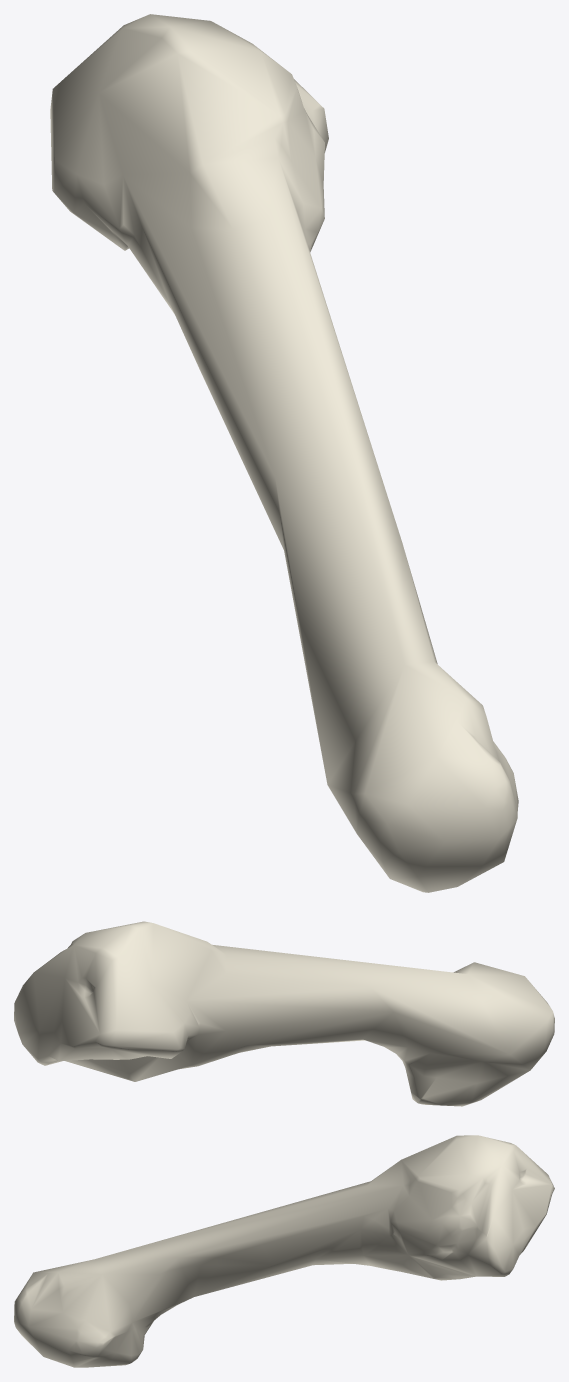
3 renders of one model, top to bottom at view 1: azimuth 30°, elevation 25°; view 2: azimuth 150°, elevation 25°; view 3: azimuth 270°, elevation 25°, orthographic. The views are drawn at different scales.
Parts seen in each view (by area): view 1: ZA_ed21d2eab3634ff3; view 2: ZA_ed21d2eab3634ff3; view 3: ZA_ed21d2eab3634ff3.
Part boxes in pixels (left/top/right/bottom): ZA_ed21d2eab3634ff3: left=50, top=14, right=518, bottom=892; ZA_ed21d2eab3634ff3: left=14, top=921, right=554, bottom=1106; ZA_ed21d2eab3634ff3: left=14, top=1135, right=554, bottom=1367.
Bounding box in the file's own units: 0.0299 × 0.037 × 0.0685.
